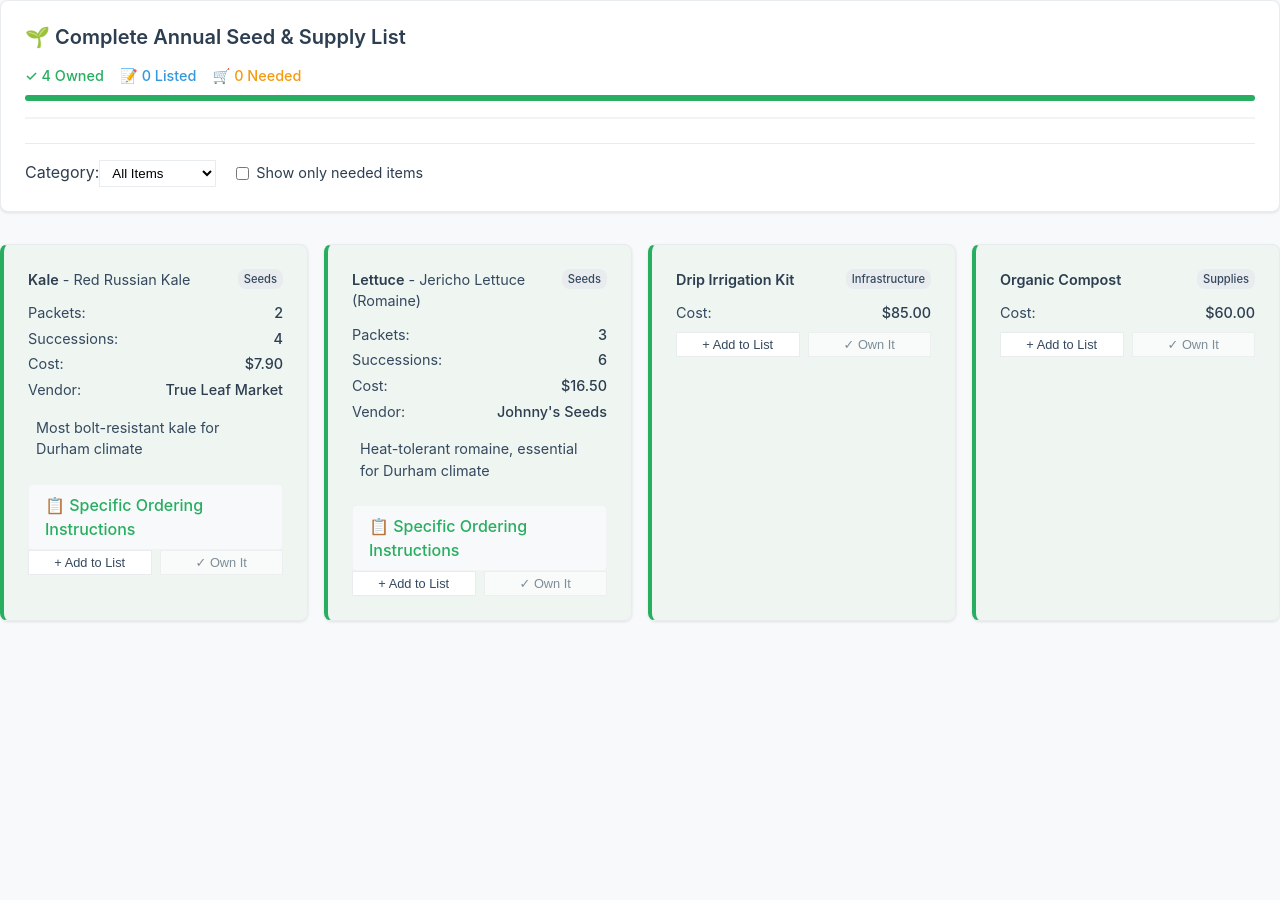
it: AnnualSeedPlanPanel › No Items State › shows success message when showing only needed but all items are handled
Click the checkbox labelled "Show only needed items": click(243, 173) [236,167,249,180]
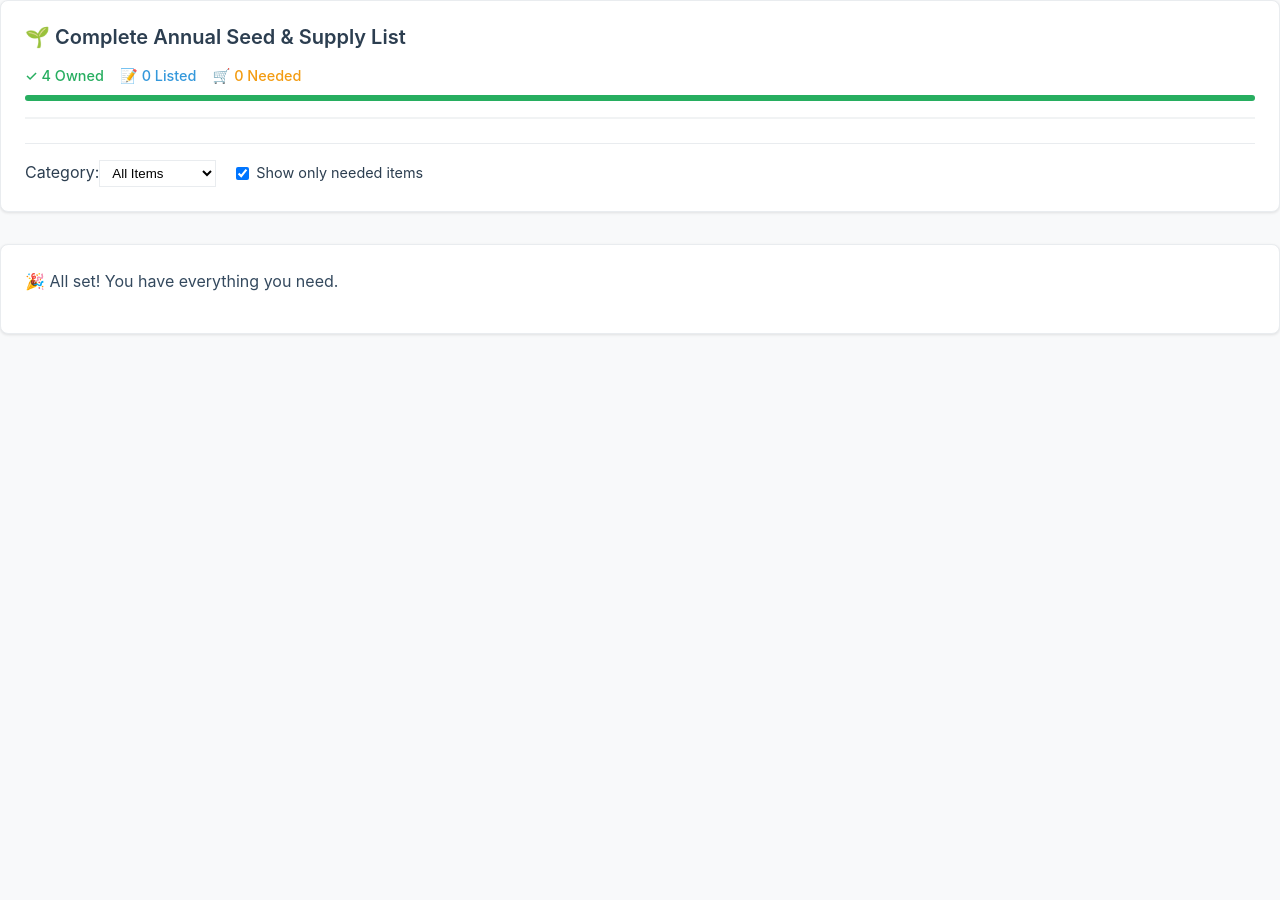
Expected: the text "🎉 All set! You have everything you need." is shown, [25,271,338,291]
